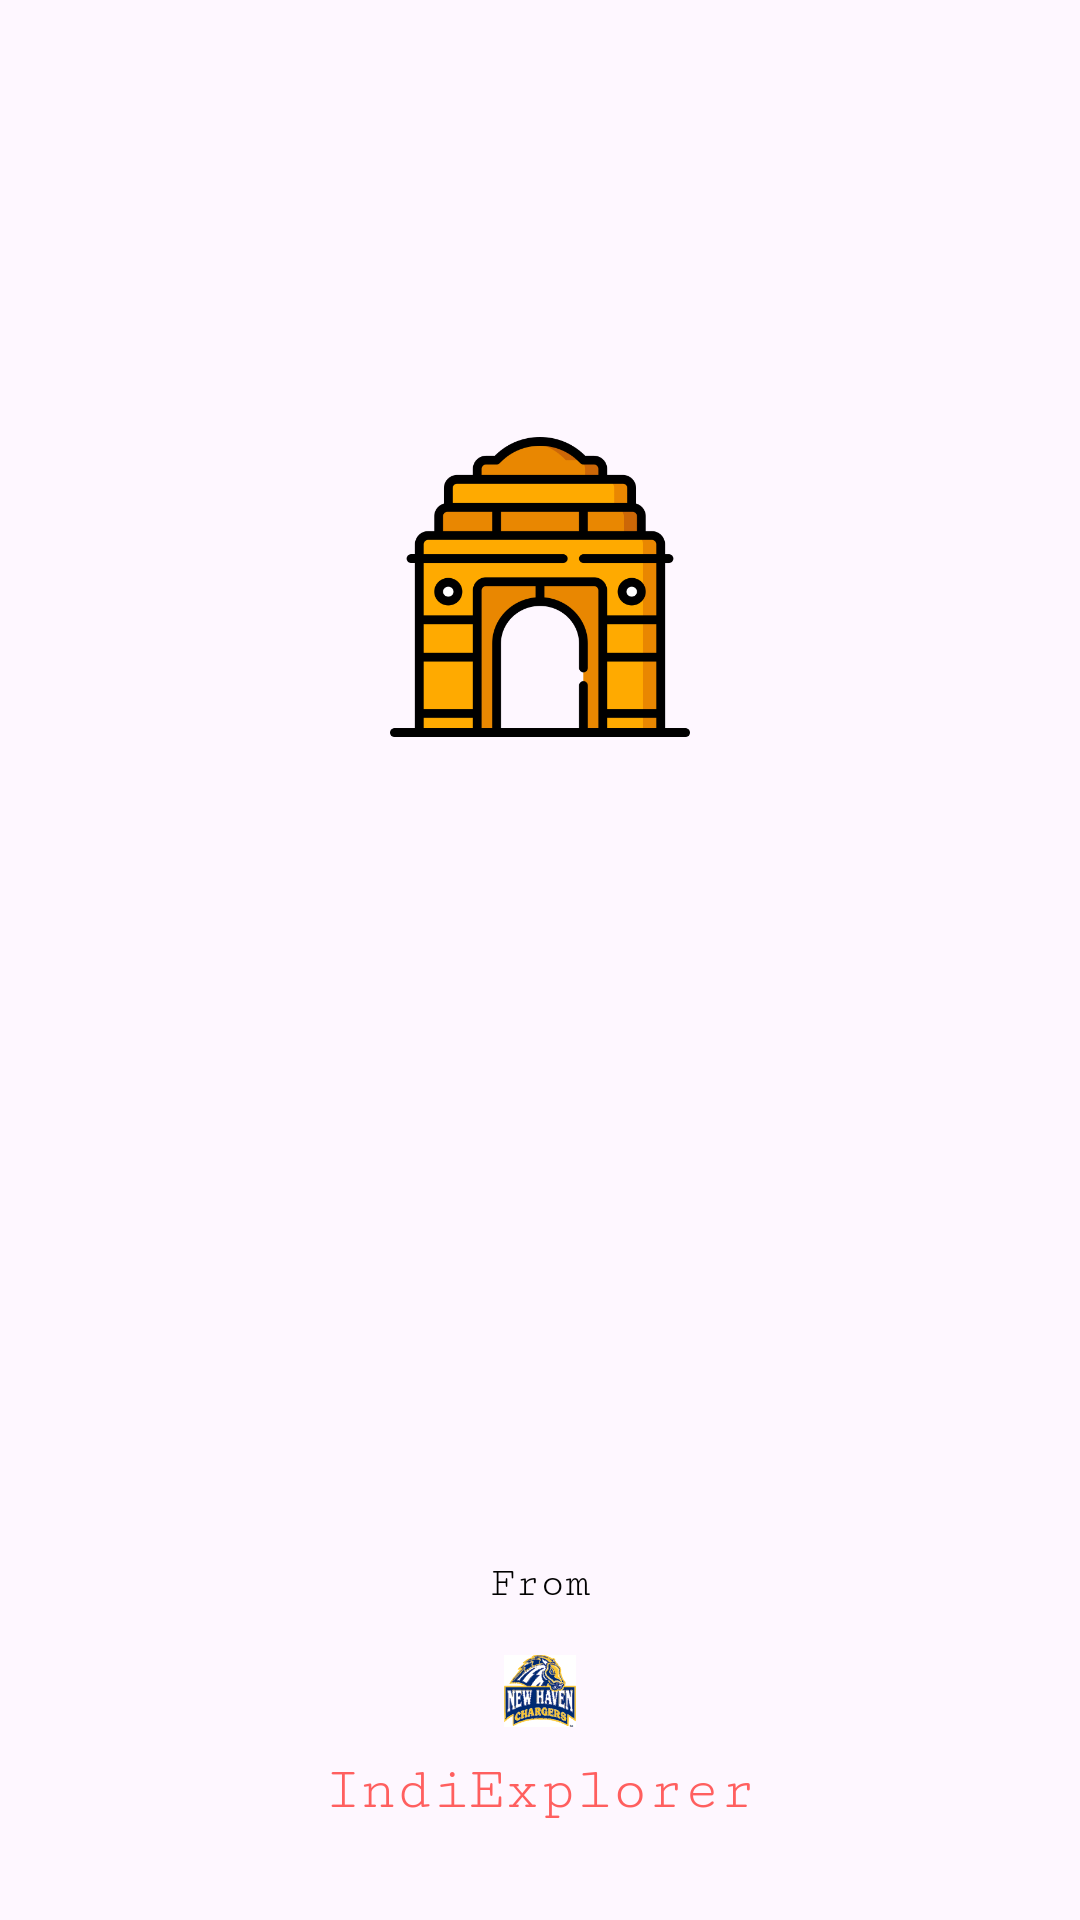

Icons on this 1080px×1920px Android screen, each with its box as (x1, y1, x2, y2):
india gate app: (390, 437, 690, 737)
